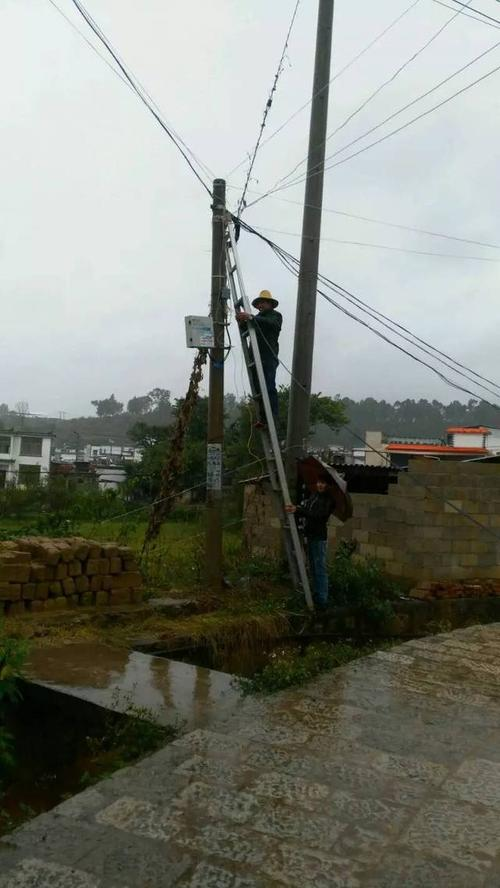安全帽、安全绳均未佩戴的工作人员: (233, 288, 283, 433)
安全帽、工作服均未穿戴的工作人员: (282, 453, 354, 612)
